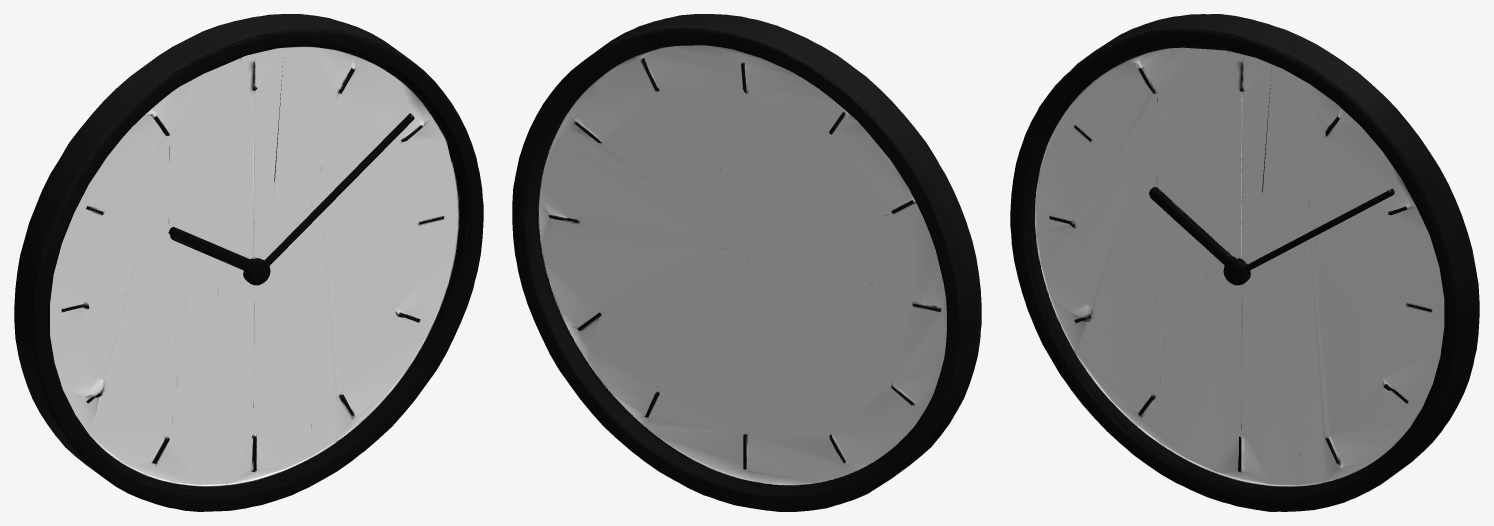
File: Meshy_AI_Melting_Time_0628175130_texture.fbx
The picture shows the model from 3 angles, left to right: view 1: azimuth 30°, elevation 25°; view 2: azimuth 150°, elevation 25°; view 3: azimuth 330°, elevation 25°; orthographic projection.
Parts seen in each view (by area): view 1: Mesh_0.001; view 2: Mesh_0.001; view 3: Mesh_0.001.
Part boxes in pixels (x1,y1,x2,y2): Mesh_0.001: (14,14,483,511); Mesh_0.001: (512,14,981,511); Mesh_0.001: (1010,14,1479,511).
Size of the model in its own units: 11.95 by 12 by 1.01.
Materials: 1 (1 with a texture image).
